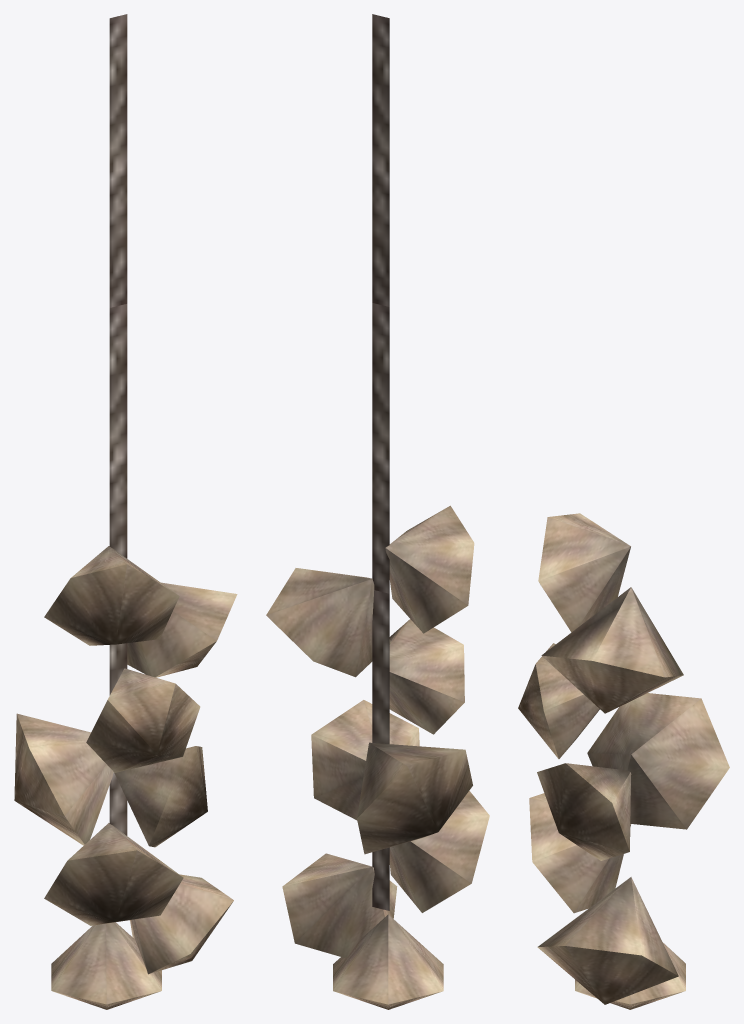
Rendered from garlicString.fbx.
The picture shows the model from 3 angles, left to right: view 1: azimuth 30°, elevation 25°; view 2: azimuth 150°, elevation 25°; view 3: azimuth 270°, elevation 25°; orthographic projection.
Visible parts, largest first — view 1: lod_high; view 2: lod_high; view 3: lod_high.
Boxes of the visible parts, x1=… form: lod_high: x1=14, y1=14, x2=237, y2=1009; lod_high: x1=266, y1=14, x2=489, y2=1009; lod_high: x1=518, y1=513, x2=729, y2=1009.
Bounding box in the file's own units: 86.49 × 434 × 83.6.
Materials: 1 (1 with a texture image).
